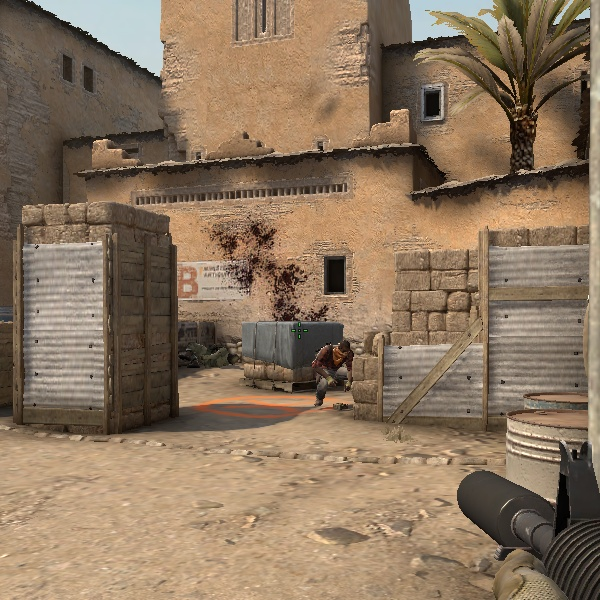t_body: (310, 335, 353, 408)
